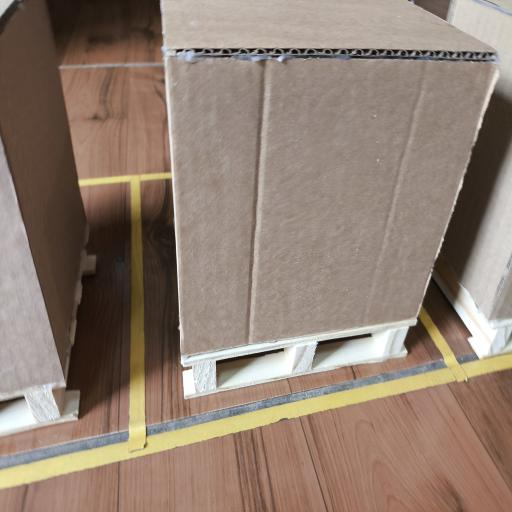pallet: (182, 319, 417, 398), (433, 258, 511, 358), (64, 250, 96, 380)
